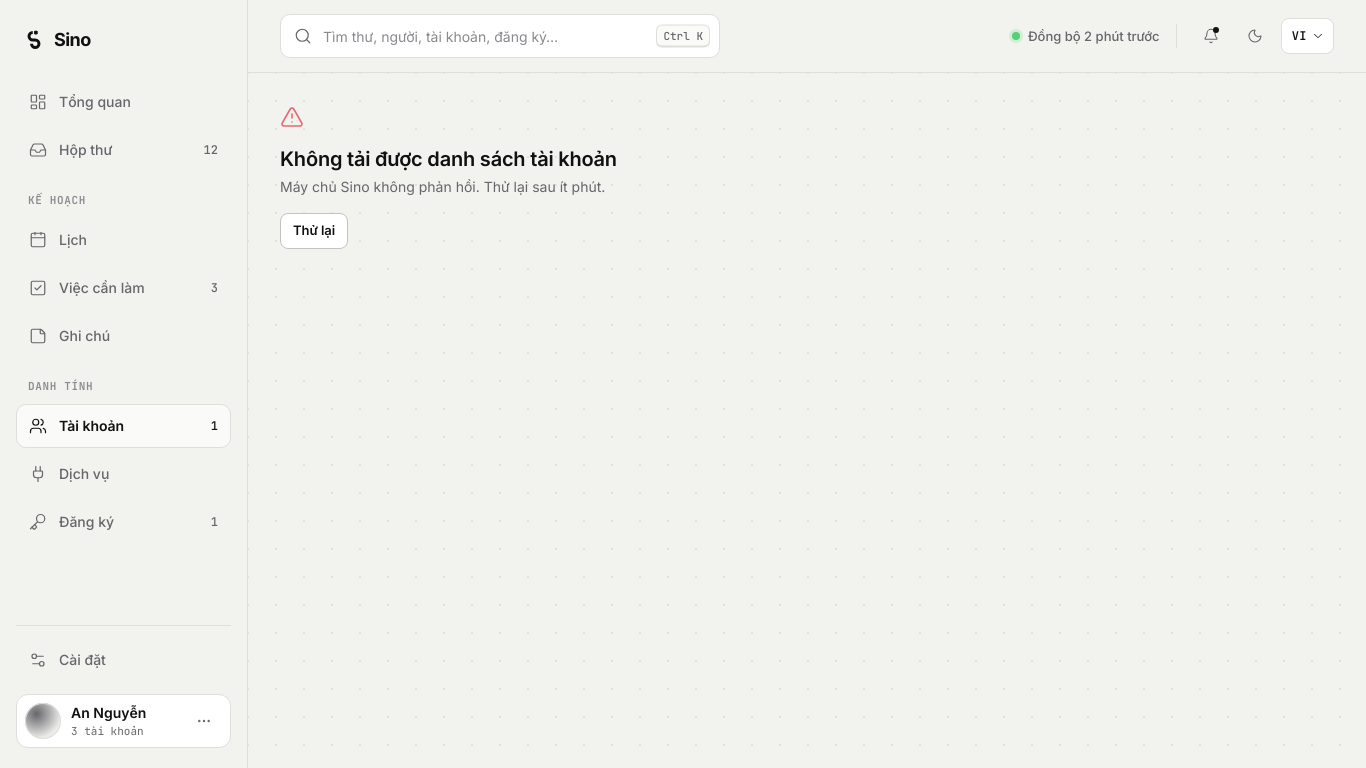
Scenario: Tài khoản on the backend API (D-56) › says so when the list cannot load, and loads it again on "Thử lại"
Expected: the message shows "Không tải được danh sách tài khoản", x1=280 y1=147 x2=617 y2=171
Click the button "Thử lại": [314, 231] box x1=280 y1=213 x2=348 y2=249
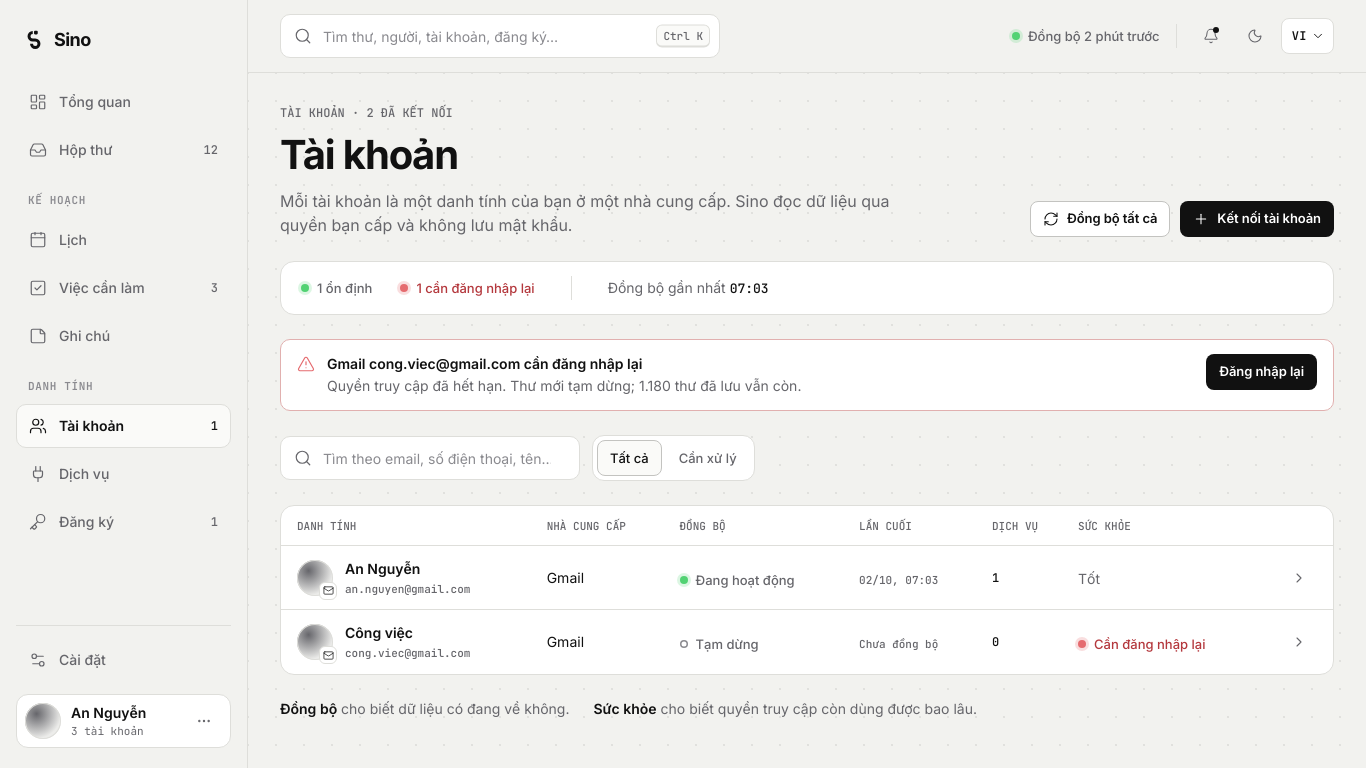
Now the text "TÀI KHOẢN · 2 ĐÃ KẾT NỐI" is shown, box x1=280 y1=105 x2=453 y2=121
